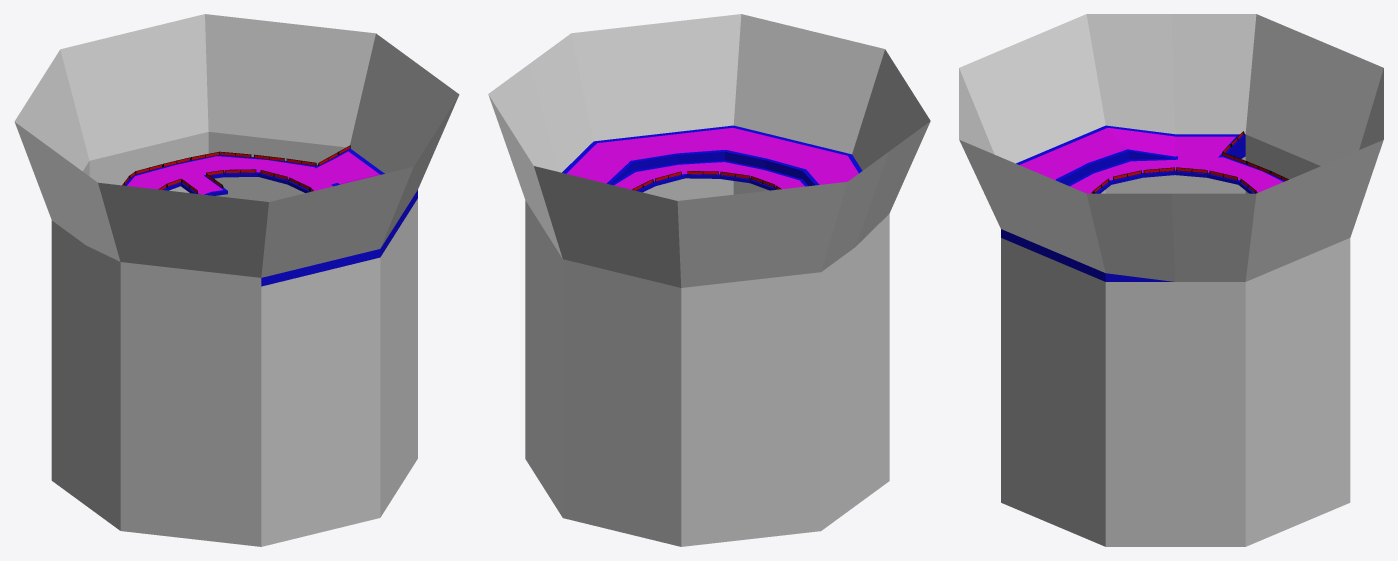
File: PlaceholderMap.fbx
The picture shows the model from 3 angles, left to right: view 1: azimuth 30°, elevation 25°; view 2: azimuth 150°, elevation 25°; view 3: azimuth 270°, elevation 25°; orthographic projection. The views are drawn at different scales.
Visible parts, largest first — view 1: Platform; view 2: Platform; view 3: Platform.
Boxes of the visible parts, box(x1,y1,x2,y2) form: Platform: box(14, 14, 459, 546); Platform: box(488, 14, 930, 546); Platform: box(959, 14, 1383, 546).
Bounding box in the file's own units: 4601 × 4414 × 4601.
